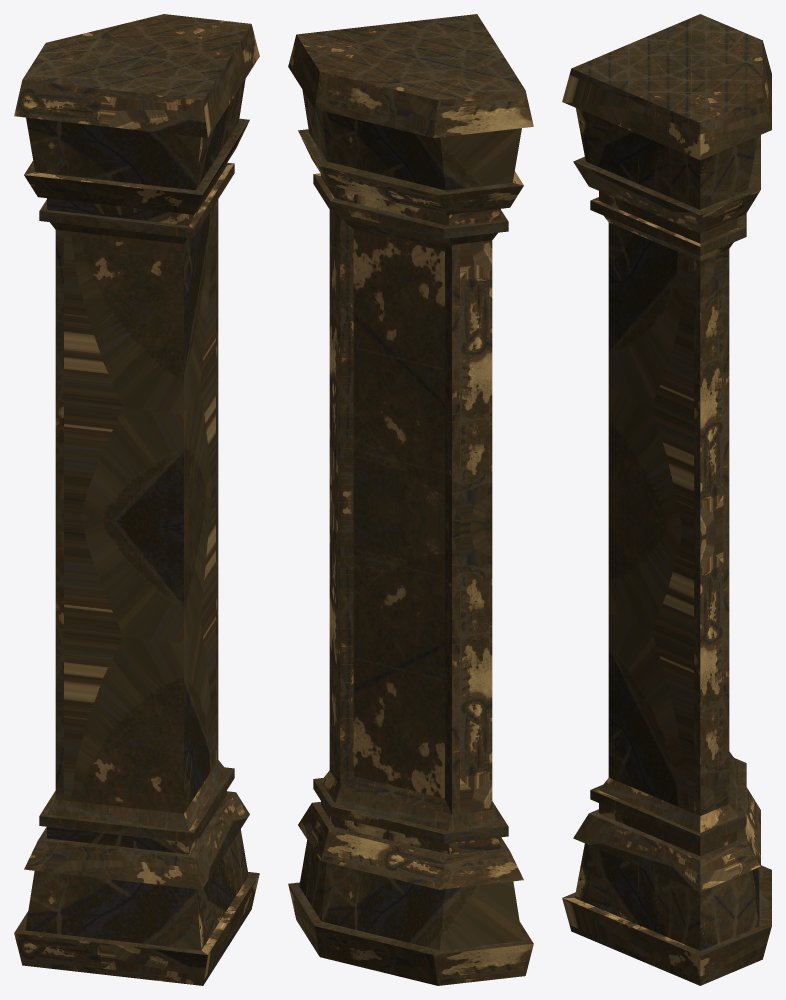
Rendered from cornerPillarPrefab.fbx.
3 renders of one model, left to right at view 1: azimuth 30°, elevation 25°; view 2: azimuth 150°, elevation 25°; view 3: azimuth 270°, elevation 25°, orthographic. The views are drawn at different scales.
Visible parts, largest first — view 1: Cube.001; view 2: Cube.001; view 3: Cube.001.
Boxes of the visible parts, x1,y1,x2,y2 form: Cube.001: [14, 14, 259, 985]; Cube.001: [288, 14, 533, 985]; Cube.001: [562, 14, 771, 985].
Bounding box in the file's own units: 64.22 × 221 × 48.74.
